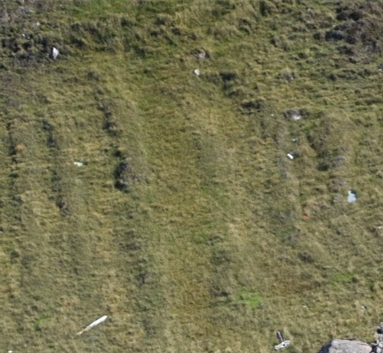scattered_barrel: (44, 41, 366, 208)
straight_bar: (62, 306, 119, 344)
